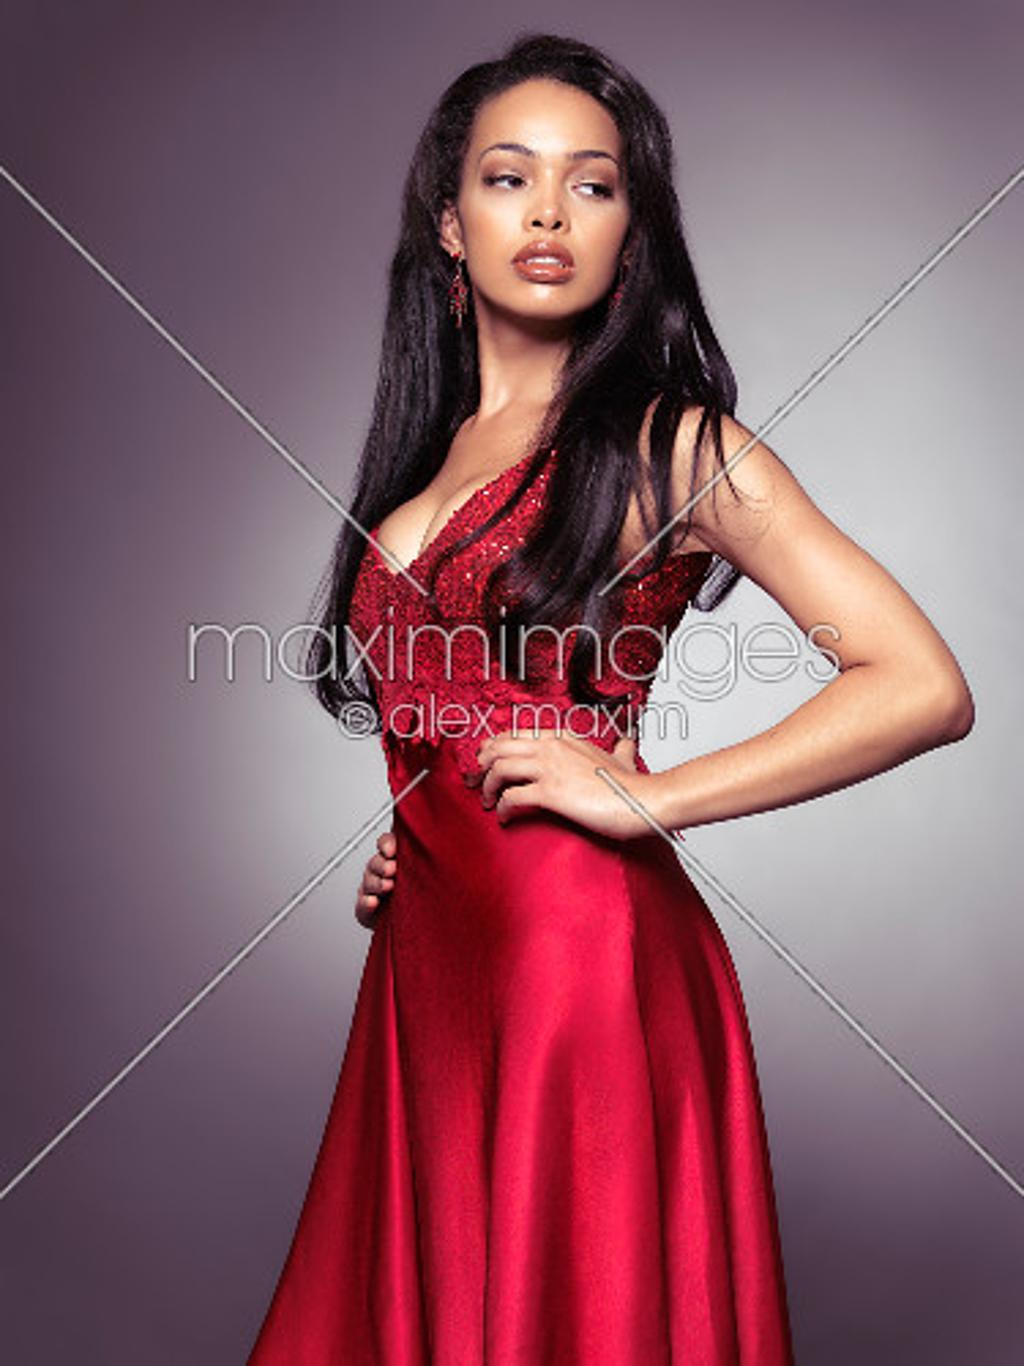face: (459, 85, 630, 317)
